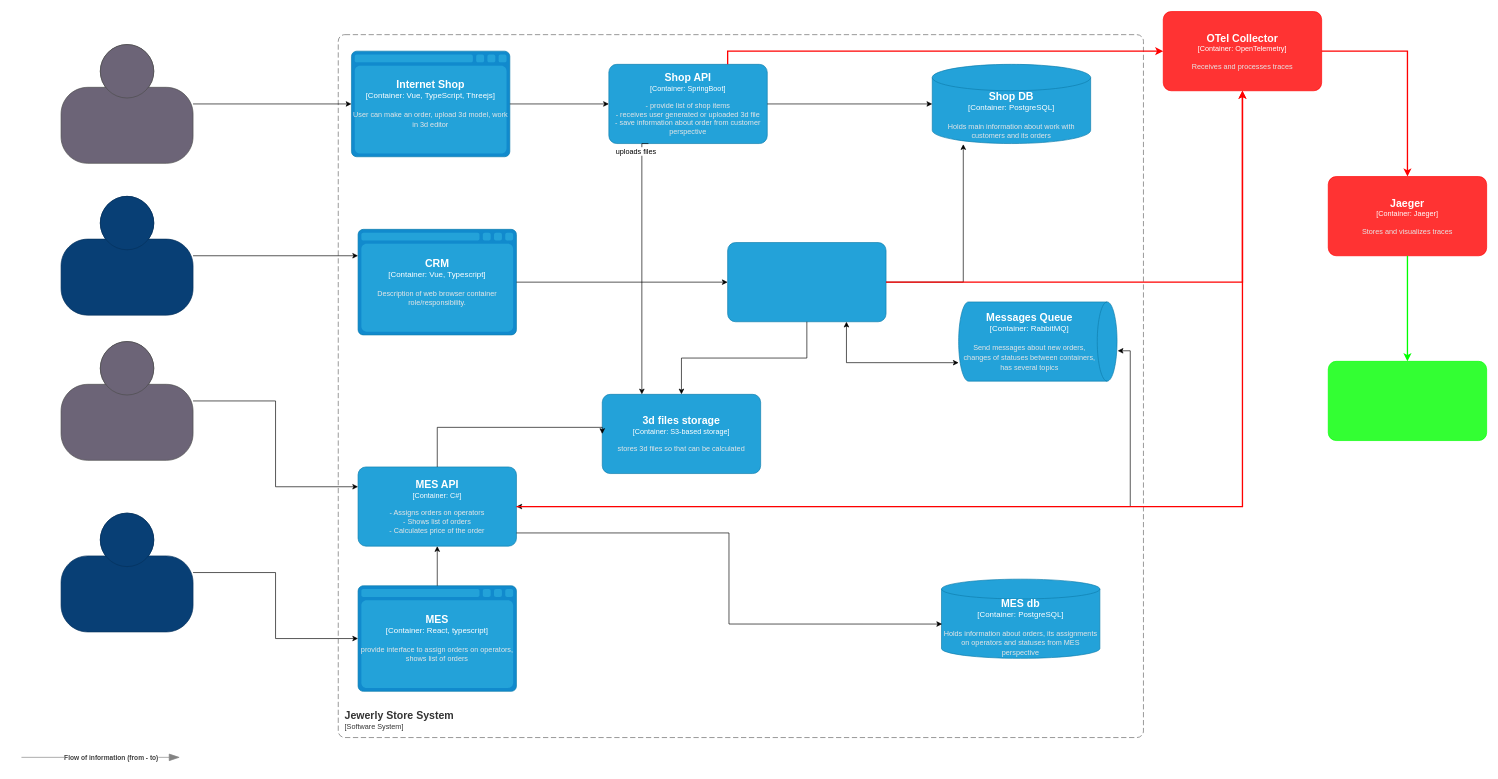
This 1498x779 diagram has some shape labels left out. The shapes that lost their labels are listed below. From the top down, each one's centre as x and y in pixels, then its label:
At (x=126, y=103): "Customer [Person] Description of external person.".
At (x=126, y=255): "Seller [Person] Operates with order, confirms manufacturing for the user".
At (x=806, y=282): "CRM API [Container: SpringBoot] Description of container role/responsibility.".
At (x=126, y=400): "API user [Person] Description of external person.".
At (x=1407, y=401): "Alertmanager [Container: Prometheus] Fires alerts based on trace metrics".
At (x=126, y=572): "Operator [Person] Takes order in work, manufactures jewerly".
